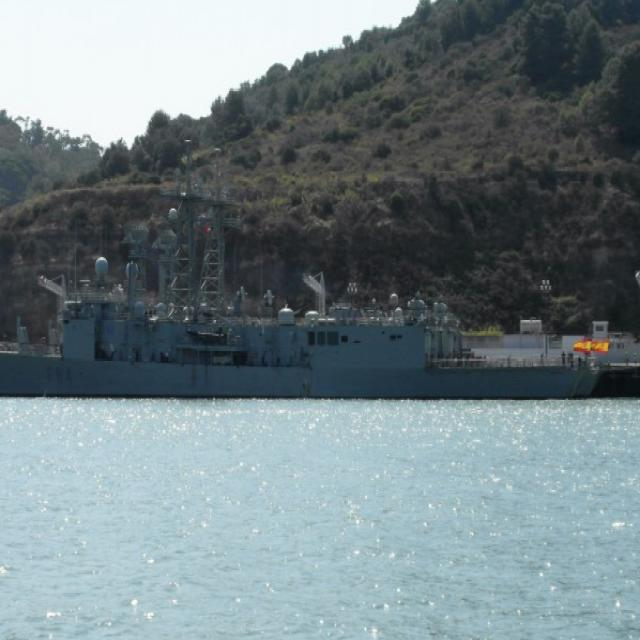Fragata: (1, 160, 607, 407)
